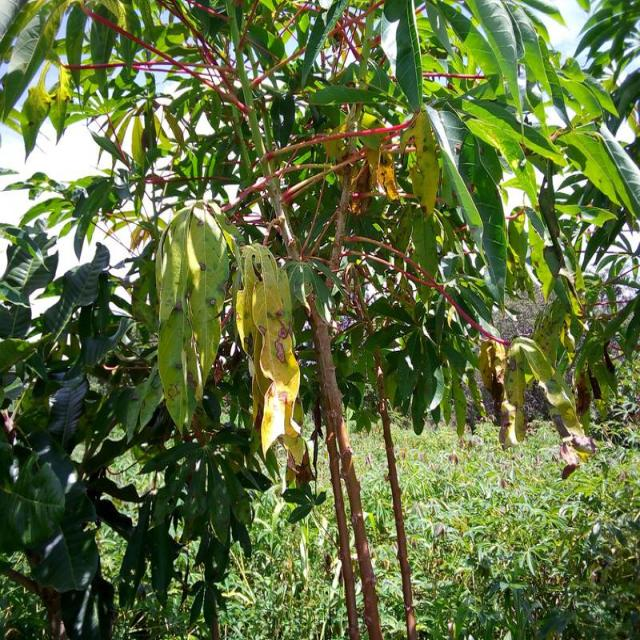cassava leaf: (153, 201, 230, 434), (234, 241, 302, 462)
